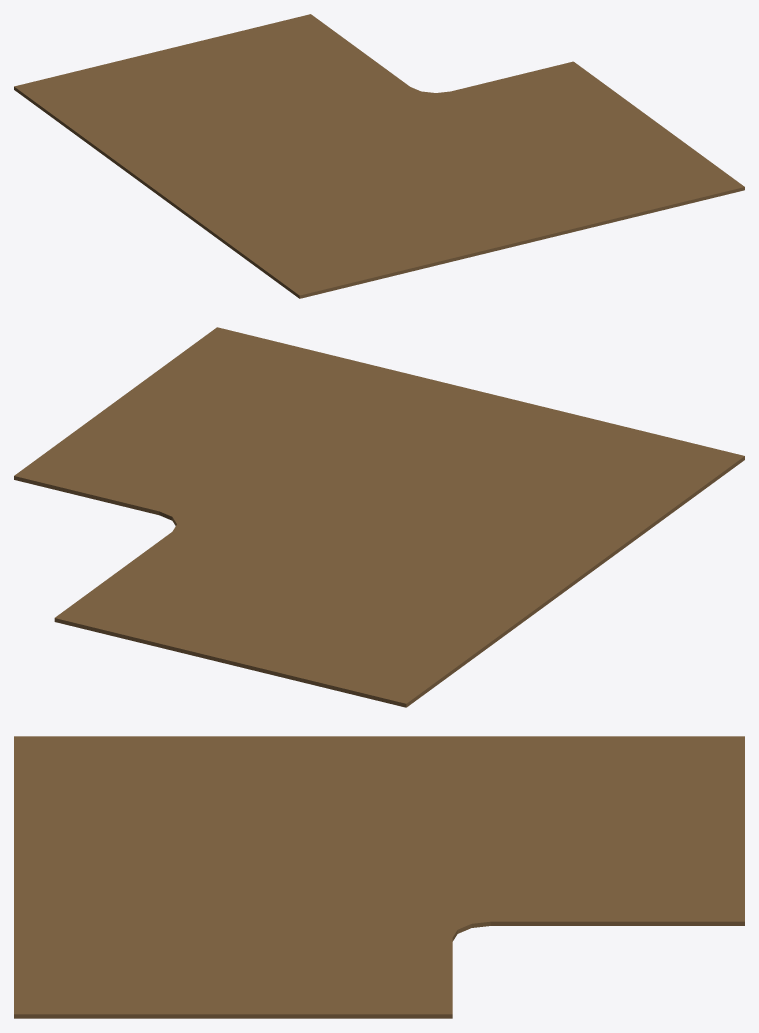
The model's file is RoadTile_2.fbx.
3 views of the same model, one above another, from view 1: azimuth 30°, elevation 25°; view 2: azimuth 150°, elevation 25°; view 3: azimuth 270°, elevation 25° (orthographic). The views are drawn at different scales.
Visible parts, largest first — view 1: RoadTile_2; view 2: RoadTile_2; view 3: RoadTile_2.
Boxes of the visible parts, x1,y1,x2,y2 form: RoadTile_2: [14, 14, 744, 298]; RoadTile_2: [14, 327, 744, 707]; RoadTile_2: [14, 736, 744, 1018].
Size of the model in its own units: 450 by 3.22 by 500.
